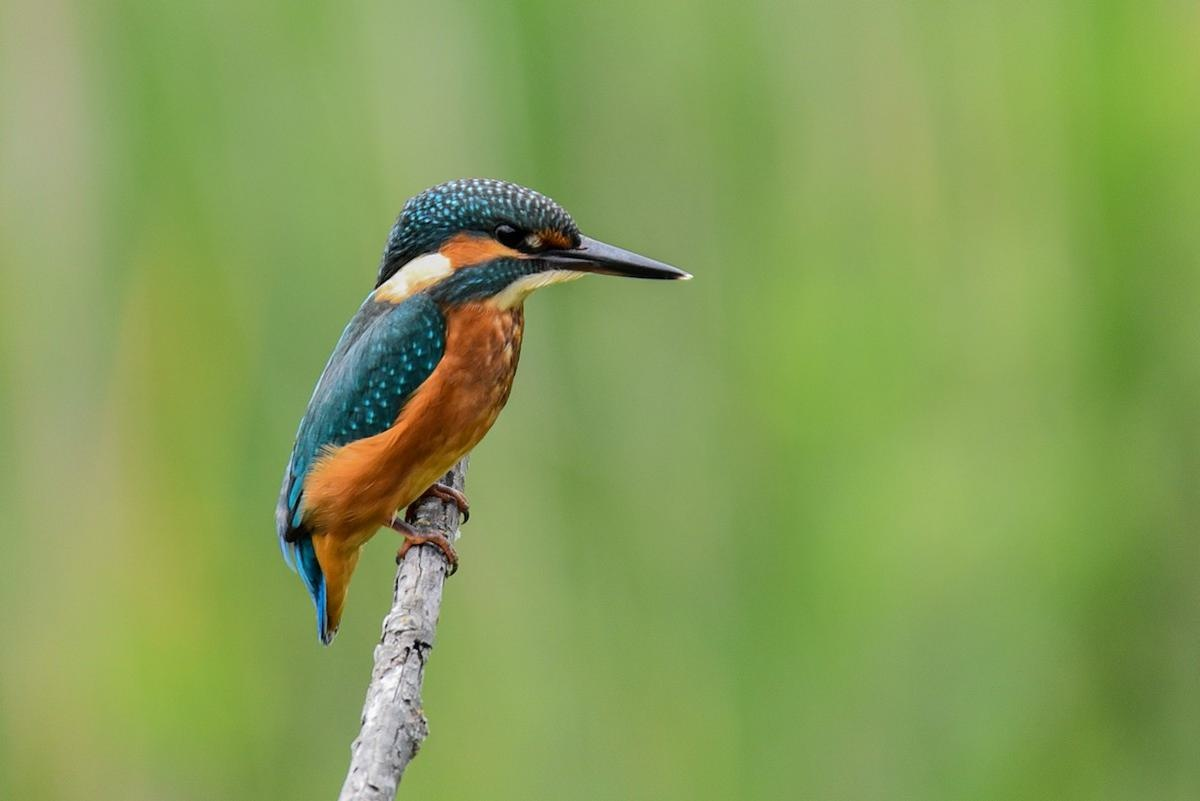kingfisher: (281, 164, 698, 617)
